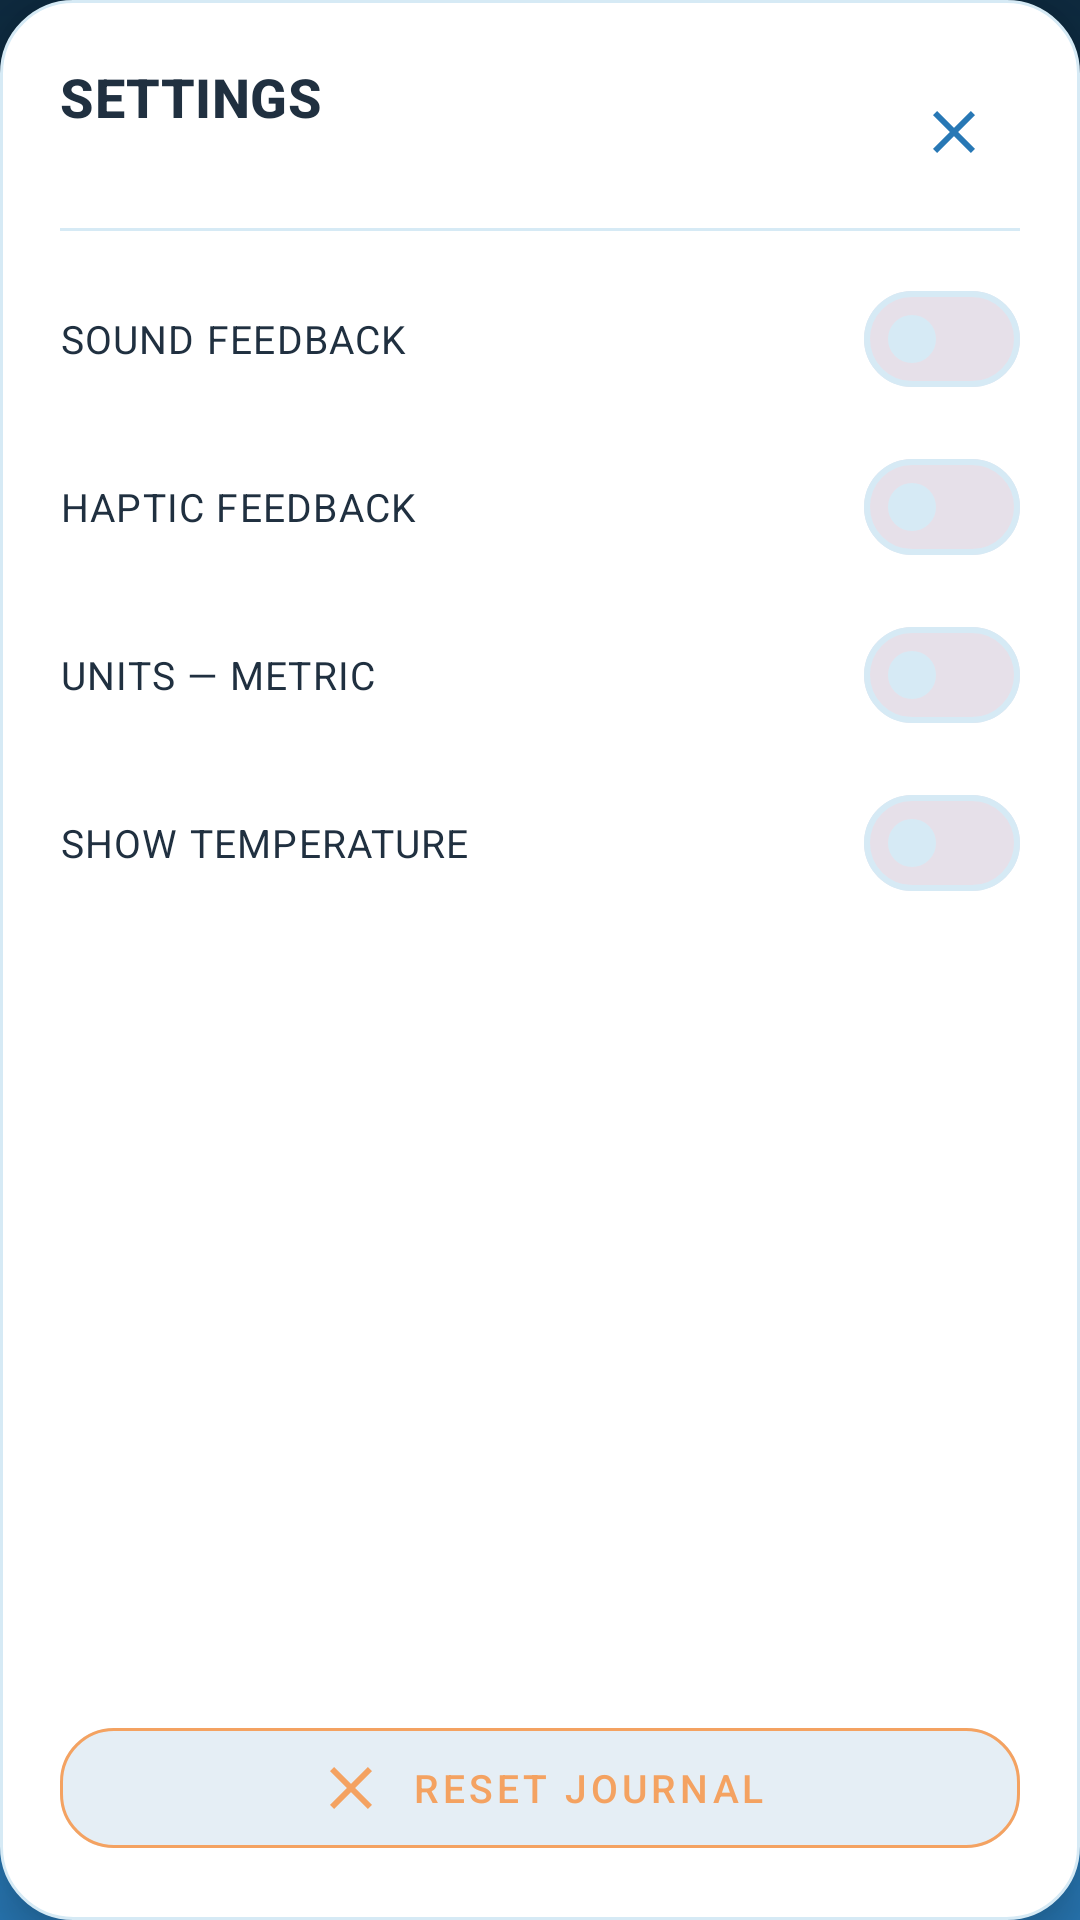

Named icons in this screenshot (1080px x 1920px) and their bounding boxes, [left=x1, top=y1, right=x2, bottom=y2]:
Close settings: [left=933, top=111, right=975, bottom=153]
